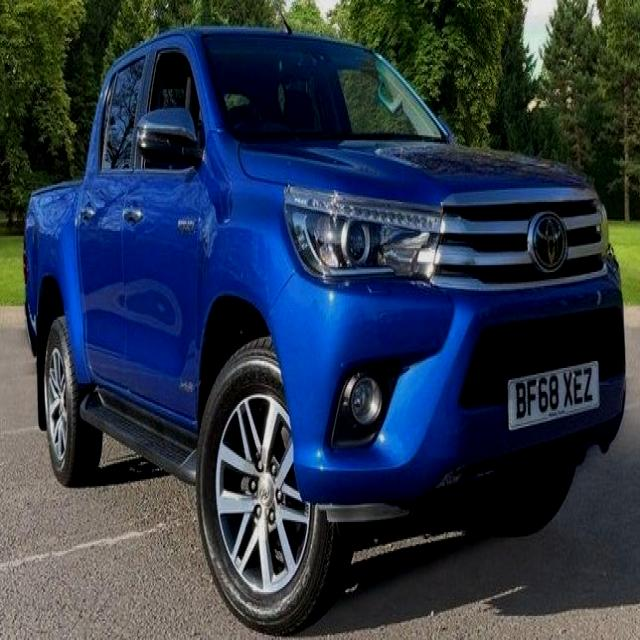CMT: (21, 19, 616, 627)
